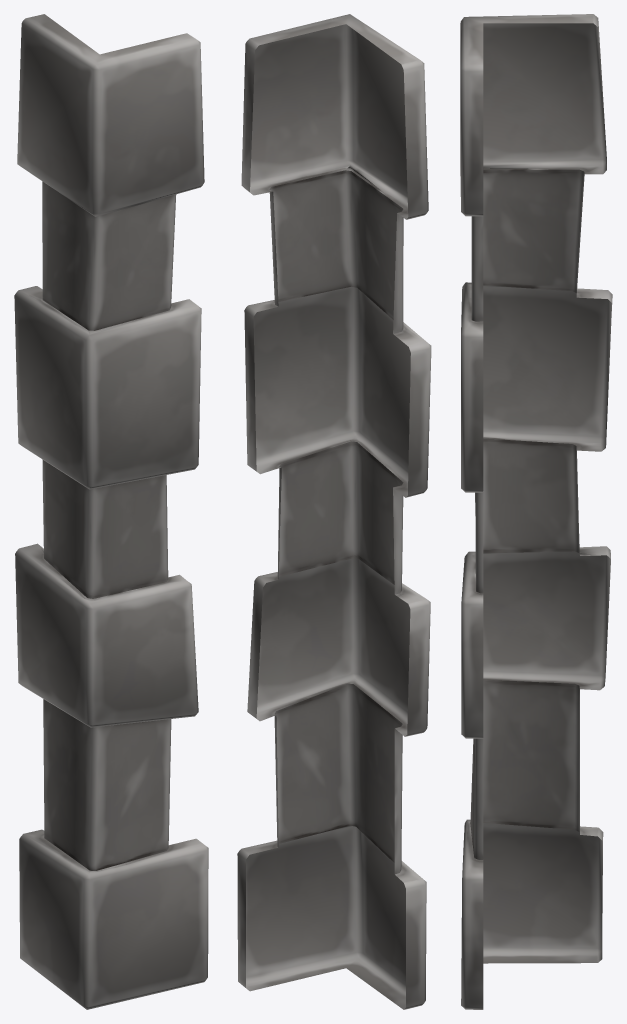
File: PropTrimFacade01_3.FBX
The picture shows the model from 3 angles, left to right: view 1: azimuth 30°, elevation 25°; view 2: azimuth 210°, elevation 25°; view 3: azimuth 270°, elevation 25°; orthographic projection.
Visible parts, largest first — view 1: PropTrimFacade01_3; view 2: PropTrimFacade01_3; view 3: PropTrimFacade01_3.
Boxes of the visible parts, x1,y1,x2,y2 form: PropTrimFacade01_3: (14,14,208,1009); PropTrimFacade01_3: (237,14,431,1009); PropTrimFacade01_3: (460,14,612,1009).
Size of what is drawn, in the model's own units: 0.4817 by 3.5 by 0.5143.
